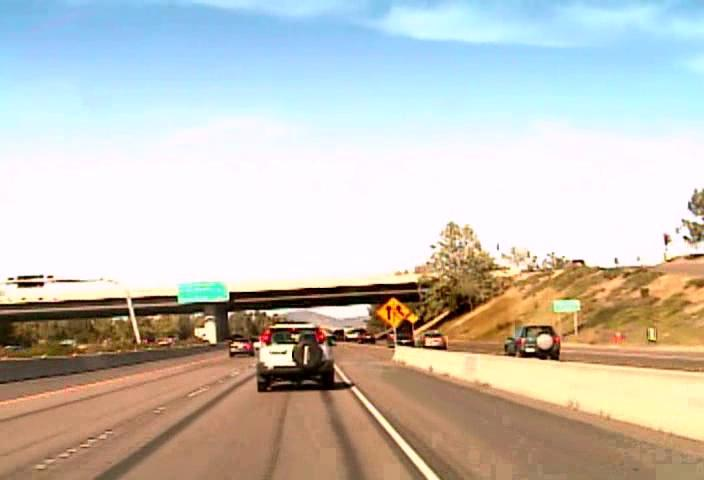addedLane: (375, 296, 411, 328)
